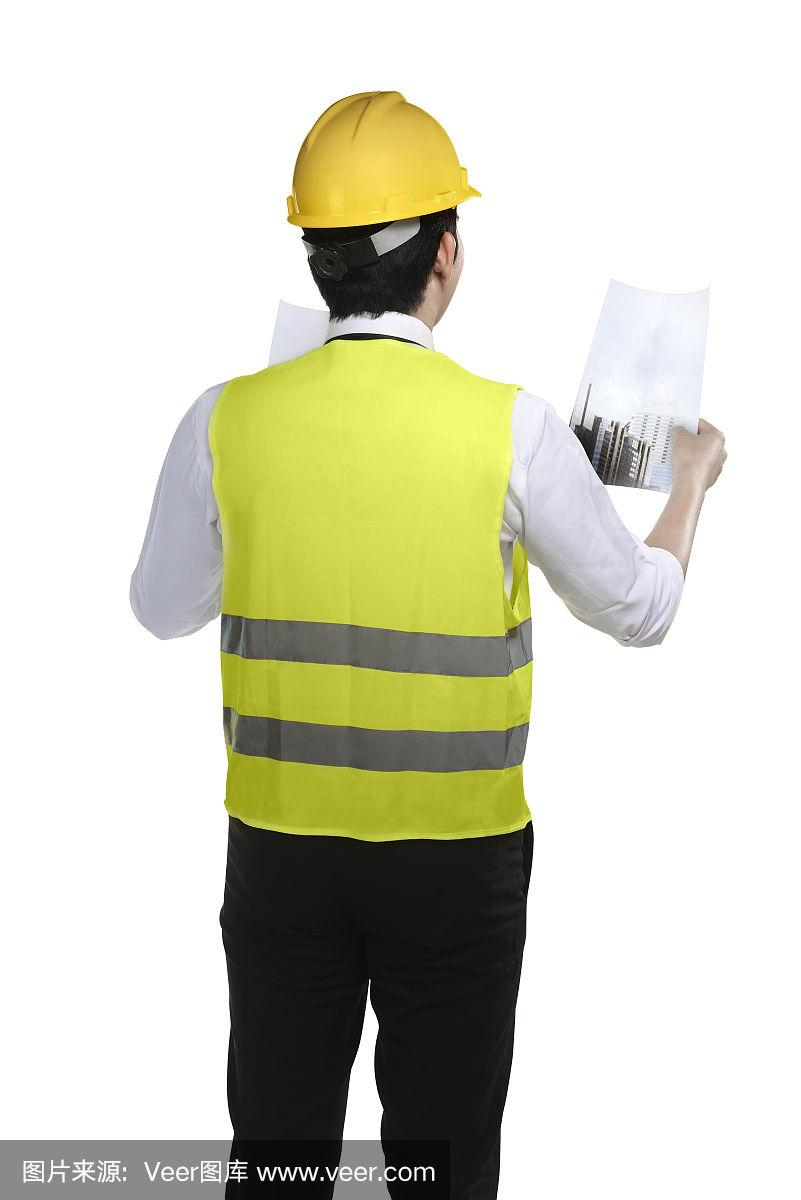person: (122, 85, 723, 1200)
reflective_vest: (202, 335, 538, 848)
safety_helmet: (284, 85, 479, 332)
